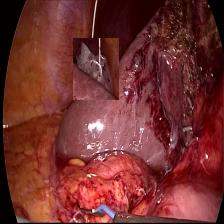Bipolar: (75, 202, 127, 222)
Specimen Bag: (73, 38, 119, 100)
